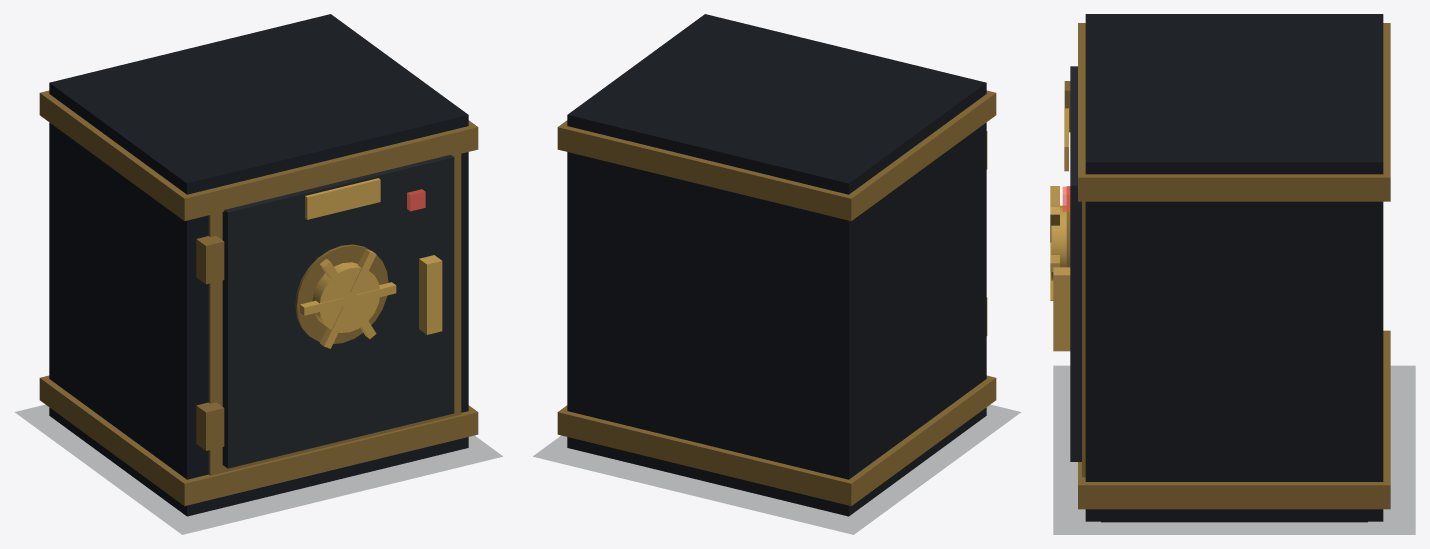
File: hp_room_desire_brass_safe.glb
The picture shows the model from 3 angles, left to right: view 1: azimuth 30°, elevation 25°; view 2: azimuth 150°, elevation 25°; view 3: azimuth 270°, elevation 25°; orthographic projection. The views are drawn at different scales.
Visible parts, largest first — view 1: body, door, body_band_top, body_band_bottom, contact_shadow, door_frame, dial_ring, dial_hub, maker_plate, handle, hinge_0.3, hinge_0.82 (+3 smaller); view 2: body, body_band_bottom, body_band_top, contact_shadow; view 3: body, contact_shadow, body_band_top, body_band_bottom, door, handle, door_frame, dial_hub, foot_1.
Part boxes in pixels (left/top/right/bottom): body: left=49, top=14, right=468, bottom=516; door: left=222, top=154, right=454, bottom=468; body_band_top: left=39, top=90, right=478, bottom=221; body_band_bottom: left=39, top=375, right=478, bottom=506; contact_shadow: left=15, top=405, right=502, bottom=534; door_frame: left=208, top=154, right=461, bottom=475; dial_ring: left=295, top=244, right=388, bottom=343; dial_hub: left=312, top=262, right=379, bottom=332; maker_plate: left=305, top=178, right=380, bottom=219; handle: left=419, top=255, right=442, bottom=334; hinge_0.3: left=196, top=402, right=224, bottom=450; hinge_0.82: left=196, top=236, right=224, bottom=284; body: left=567, top=14, right=986, bottom=516; body_band_bottom: left=557, top=375, right=996, bottom=506; body_band_top: left=557, top=90, right=996, bottom=221; contact_shadow: left=533, top=405, right=1020, bottom=534; body: left=1085, top=14, right=1383, bottom=521; contact_shadow: left=1053, top=366, right=1415, bottom=534; body_band_top: left=1078, top=23, right=1390, bottom=201; body_band_bottom: left=1078, top=330, right=1390, bottom=509; door: left=1070, top=66, right=1081, bottom=461; handle: left=1053, top=267, right=1070, bottom=351; door_frame: left=1082, top=201, right=1085, bottom=477; dial_hub: left=1051, top=205, right=1066, bottom=280; foot_1: left=1101, top=521, right=1367, bottom=522.
Size of the model in its own units: 1.05 by 1.06 by 0.9575.
